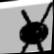not correct: (14, 1, 54, 53)
